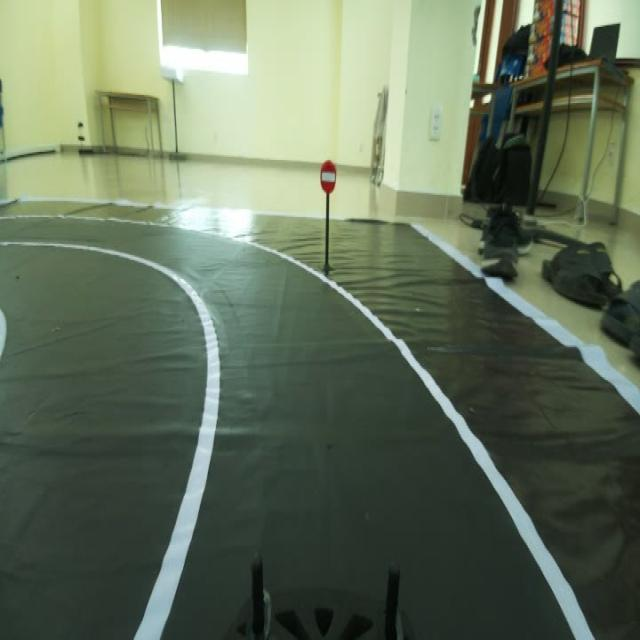no_entry: (314, 154, 346, 201)
